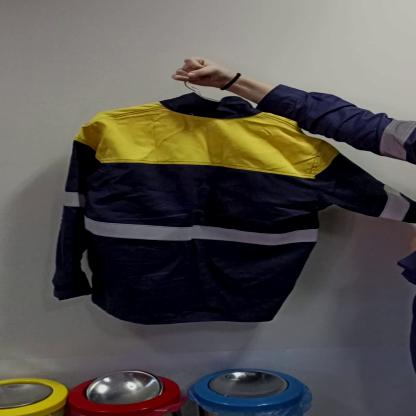C_eletrica: (53, 92, 413, 325)
